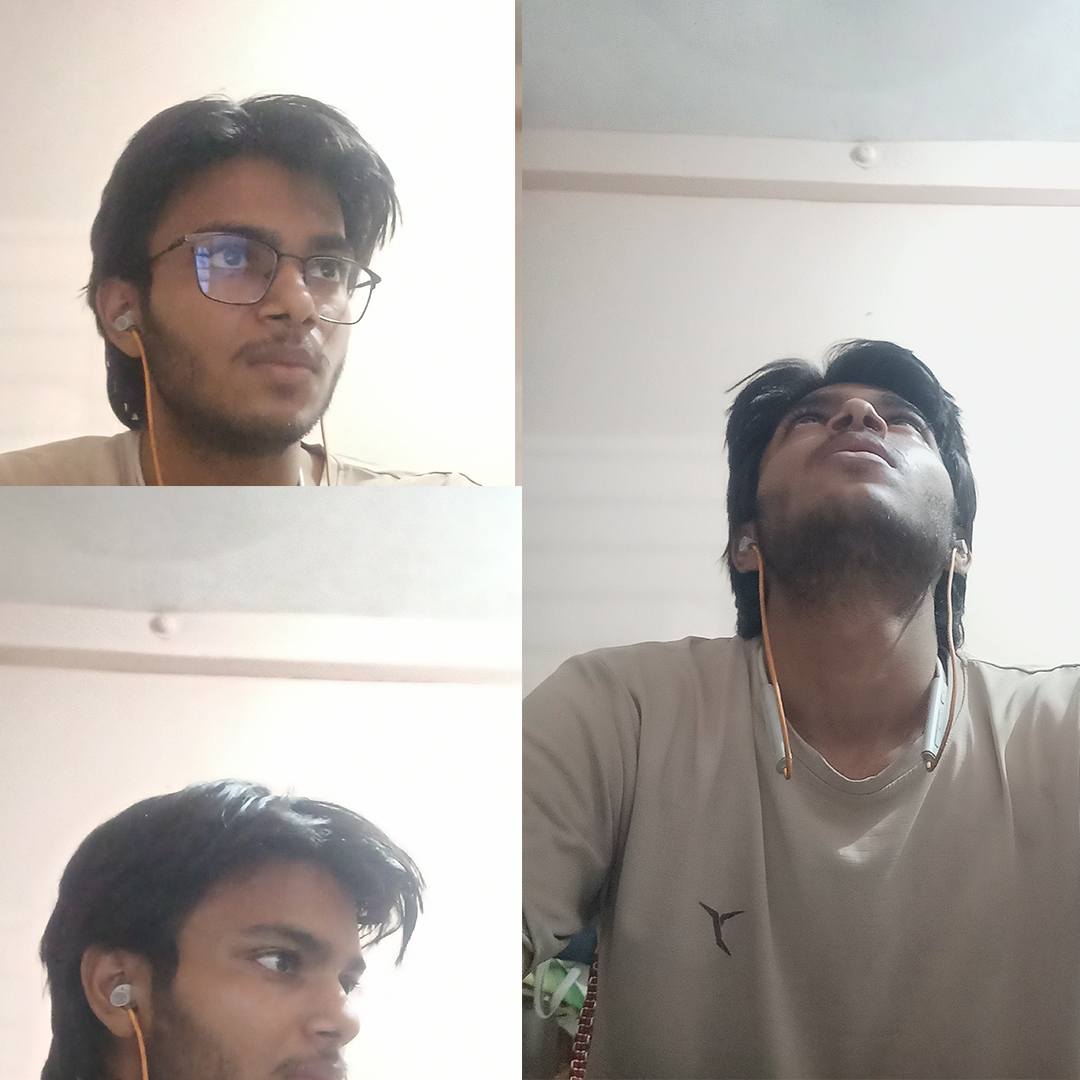distracted: (664, 259, 1040, 682), (46, 665, 386, 1074), (89, 52, 383, 480)
